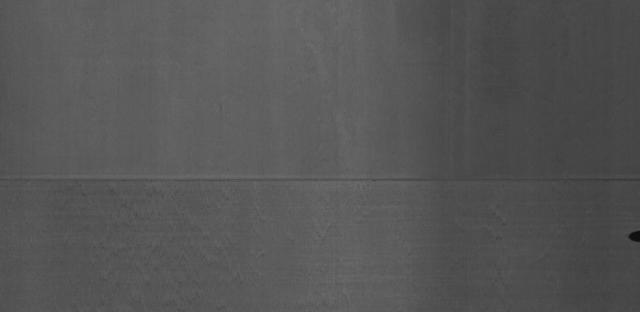punching_hole: (626, 226, 639, 244)
silk_spot: (85, 201, 260, 299)
welding_line: (3, 172, 639, 190)
